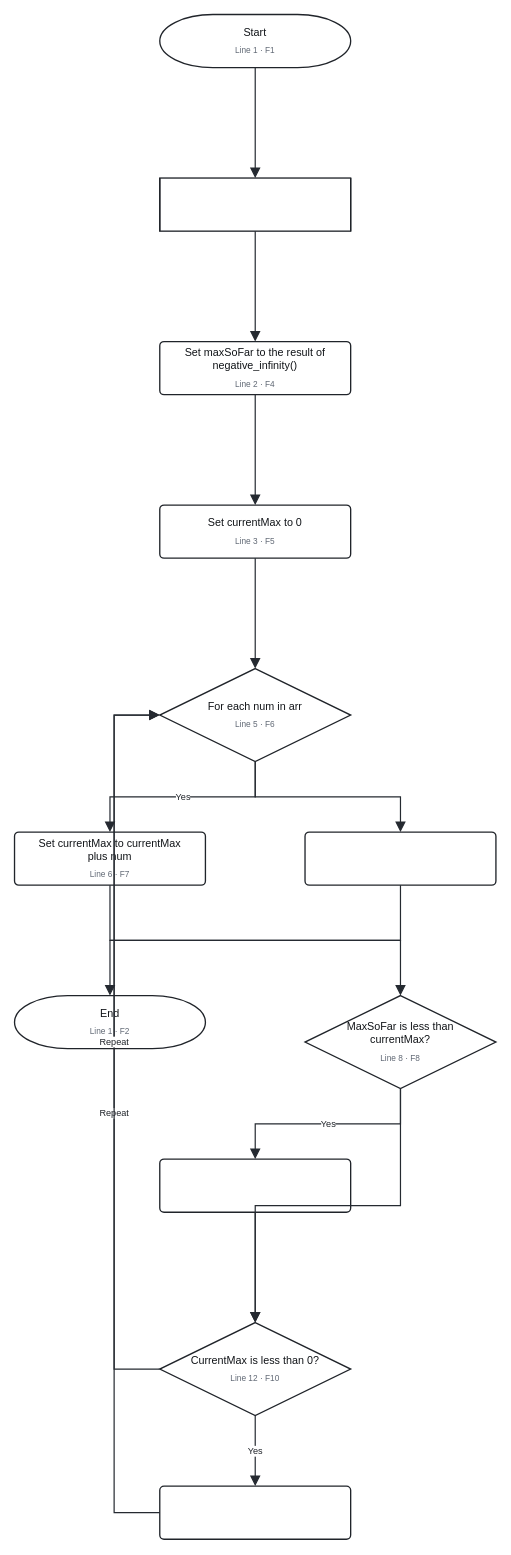
Some shapes in this 511 by 1555 pixel diagram are drawn without their labels. Each missing label, with the centre of its shape:
"Return maxSoFar Line 17 · F12" goes at point 400,858.
"Run function unnamed_function with arr Line 1 · F3" goes at point 255,204.
"Set currentMax to 0 Line 13 · F11" goes at point 255,1512.
"Set maxSoFar to currentMax Line 9 · F9" goes at point 255,1185.
